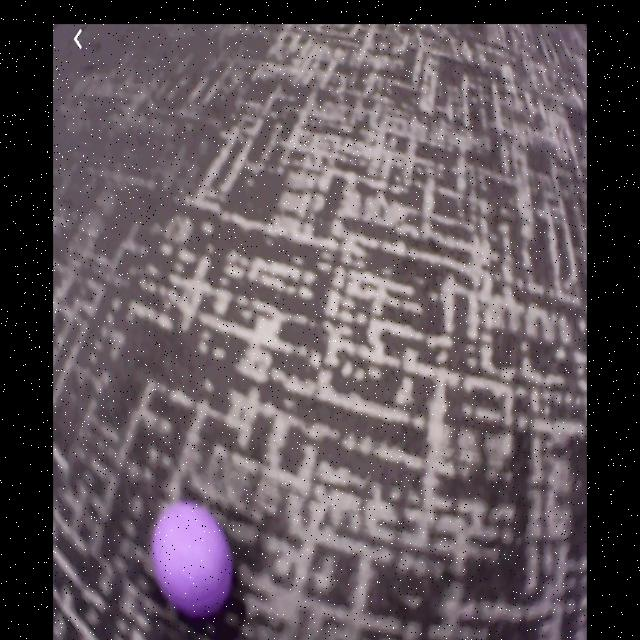ball: (153, 505, 233, 616)
